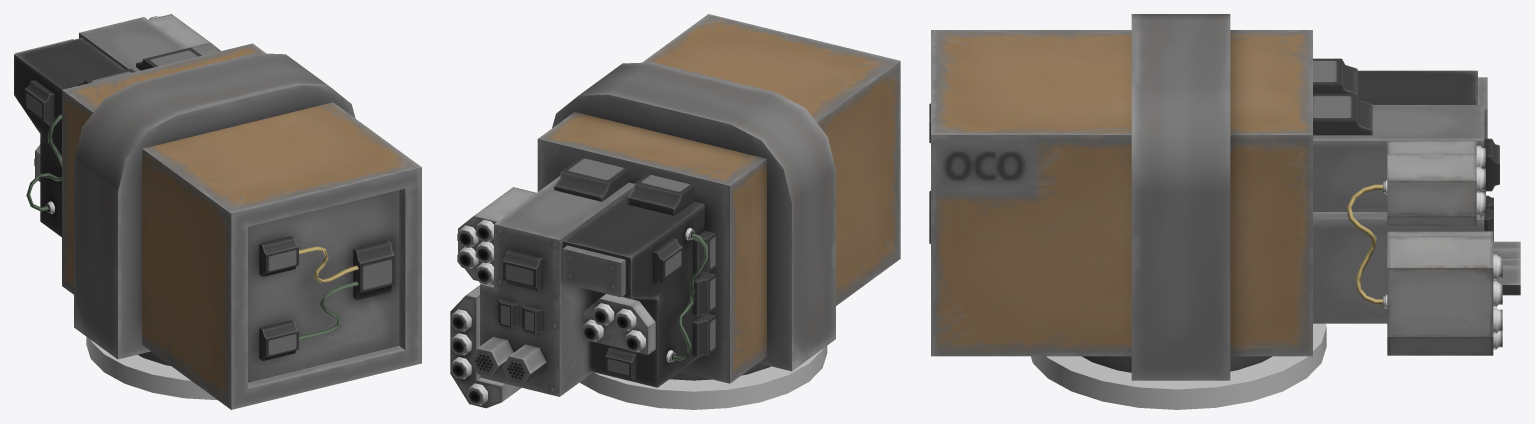
File: OSO_Instrument.dae
3 renders of one model, left to right at view 1: azimuth 30°, elevation 25°; view 2: azimuth 150°, elevation 25°; view 3: azimuth 270°, elevation 25°, orthographic. The views are drawn at different scales.
Visible parts, largest first — view 1: OSO_Instrument_merged1_pivot_OSO_Panel_merged_pivot_pCylinde, base; view 2: OSO_Instrument_merged1_pivot_OSO_Panel_merged_pivot_pCylinde, base; view 3: OSO_Instrument_merged1_pivot_OSO_Panel_merged_pivot_pCylinde, base.
Boxes of the visible parts, box(x1,y1,x2,y2) form: OSO_Instrument_merged1_pivot_OSO_Panel_merged_pivot_pCylinde: box(14, 14, 421, 409); base: box(86, 337, 217, 400); OSO_Instrument_merged1_pivot_OSO_Panel_merged_pivot_pCylinde: box(450, 14, 900, 408); base: box(580, 346, 827, 409); OSO_Instrument_merged1_pivot_OSO_Panel_merged_pivot_pCylinde: box(929, 14, 1520, 380); base: box(1031, 323, 1326, 409).
Size of what is drawn, in the model's own units: 0.1801 by 0.1843 by 0.3378.
